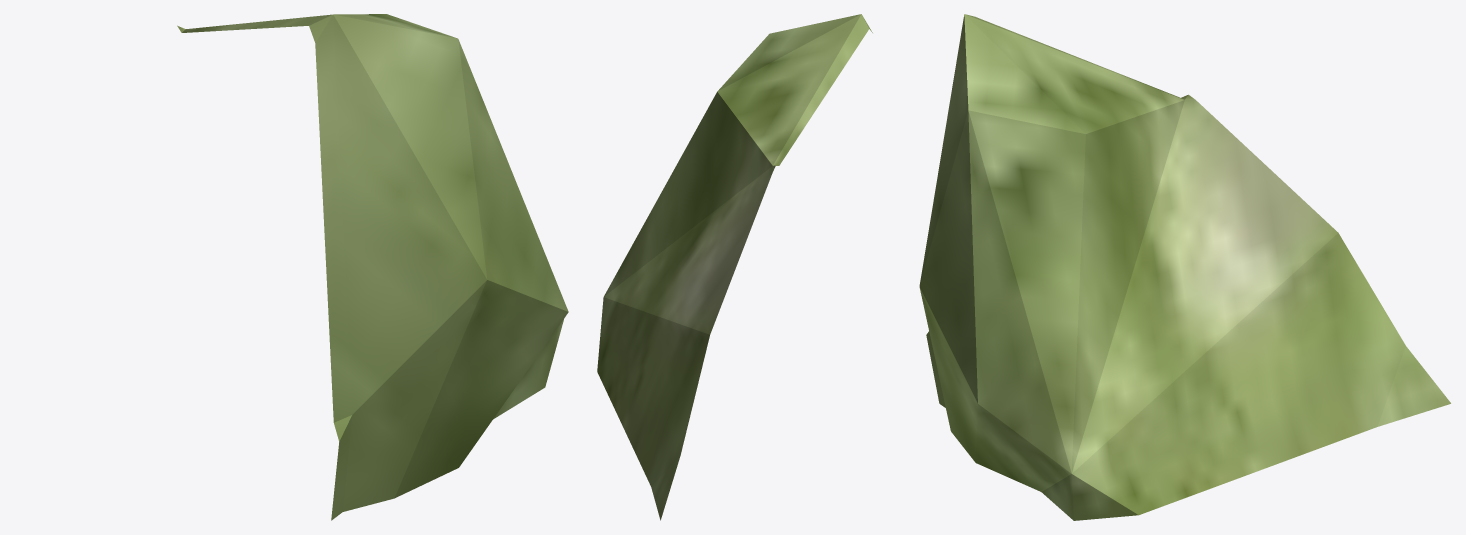
The picture shows the model from 3 angles, left to right: view 1: azimuth 30°, elevation 25°; view 2: azimuth 150°, elevation 25°; view 3: azimuth 270°, elevation 25°; orthographic projection. The views are drawn at different scales.
Bounding box in the file's own units: 0.199 × 0.2957 × 0.3595.
Materials: 1 (1 with a texture image).
